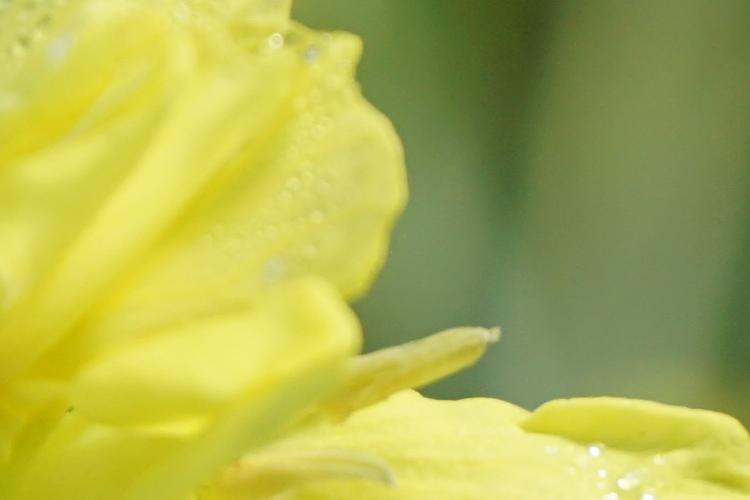yellow: (18, 22, 687, 495)
